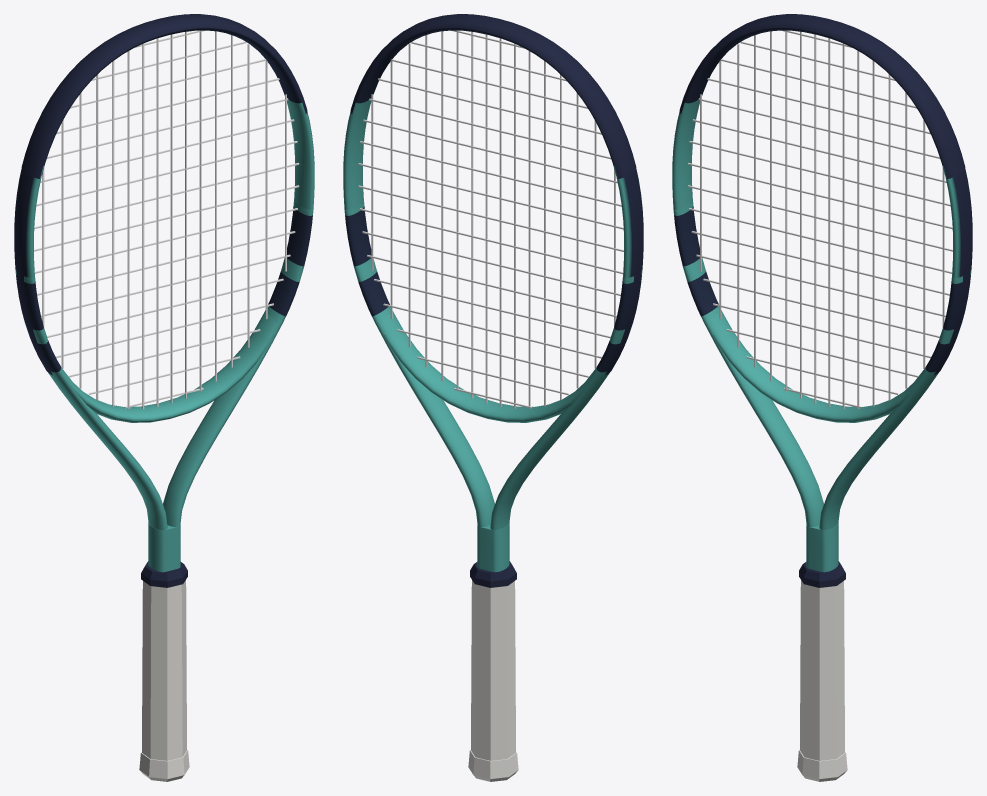
File: babolat-evo-drive-115.glb
3 views of the same model, side by side, from view 1: azimuth 30°, elevation 25°; view 2: azimuth 150°, elevation 25°; view 3: azimuth 330°, elevation 25° (orthographic).
Visible parts, largest first — view 1: frame, strings_mains, strings_crosses, grip, bumper, grommets, butt_cap, collar; view 2: frame, strings_mains, strings_crosses, grip, bumper, grommets, butt_cap, collar; view 3: frame, strings_mains, strings_crosses, grip, bumper, grommets, butt_cap, collar.
Boxes of the visible parts, x1,y1,x2,y2 form: frame: [14, 28, 314, 572]; strings_mains: [42, 30, 286, 409]; strings_crosses: [34, 30, 299, 408]; grip: [142, 580, 186, 760]; bumper: [21, 14, 307, 178]; grommets: [15, 170, 52, 375]; butt_cap: [139, 749, 189, 781]; collar: [141, 561, 187, 587]; frame: [343, 28, 643, 572]; strings_mains: [371, 31, 615, 408]; strings_crosses: [358, 30, 623, 408]; grip: [471, 580, 515, 760]; bumper: [350, 14, 636, 178]; grommets: [605, 170, 642, 375]; butt_cap: [468, 749, 518, 781]; collar: [470, 561, 516, 587]; frame: [672, 28, 972, 572]; strings_mains: [700, 30, 944, 409]; strings_crosses: [687, 30, 952, 408]; grip: [800, 580, 844, 760]; bumper: [679, 14, 965, 178]; grommets: [934, 170, 971, 375]; butt_cap: [797, 749, 847, 781]; collar: [799, 561, 845, 587].
Size of the model in its own units: 0.2855 by 0.7013 by 0.0396.
